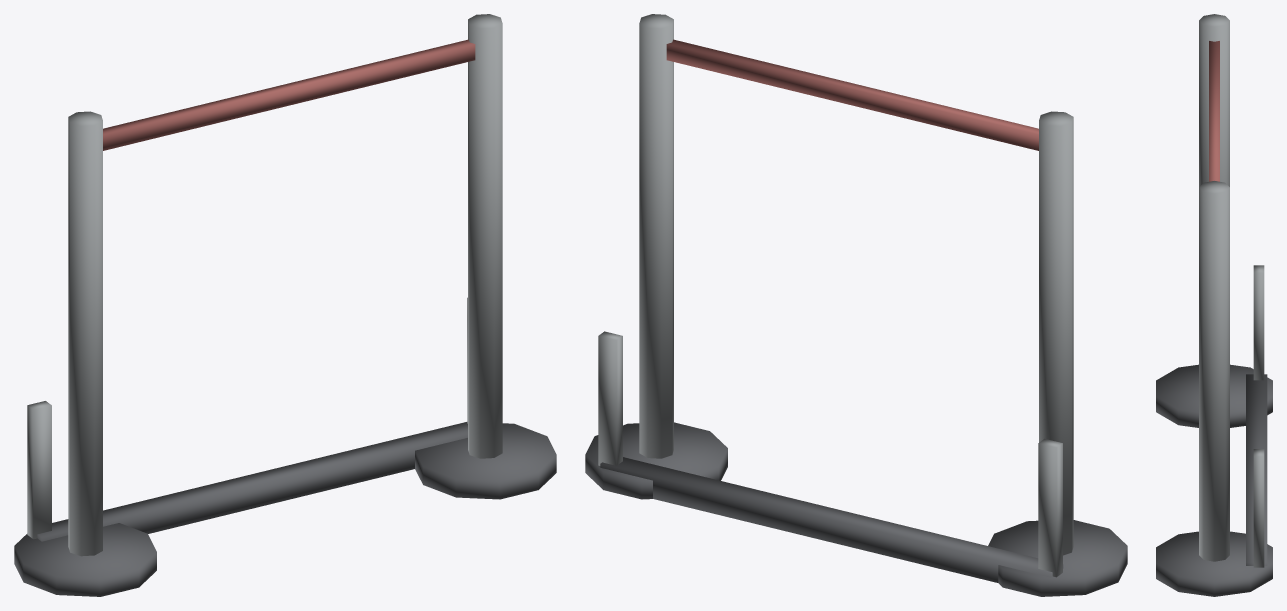
The model's file is queue_stanchion__reinforced.glb.
3 views of the same model, side by side, from view 1: azimuth 30°, elevation 25°; view 2: azimuth 150°, elevation 25°; view 3: azimuth 270°, elevation 25° (orthographic). The views are drawn at different scales.
Visible parts, largest first — view 1: world; view 2: world; view 3: world.
Part boxes in pixels (<box>): world: <box>14,14,556,596</box>; world: <box>585,14,1127,596</box>; world: <box>1156,14,1272,596</box>.
Bounding box in the file's own units: 1.22 × 0.9945 × 0.2743.
